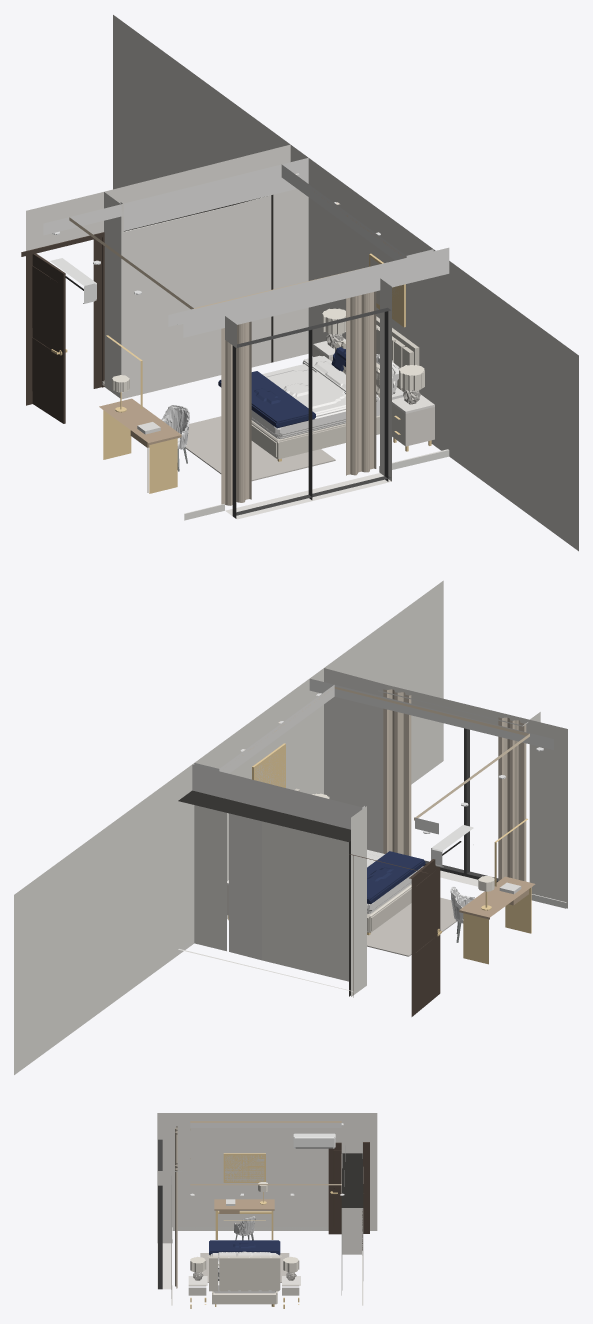
The model's file is ROOM4.glb.
3 renders of one model, top to bottom at view 1: azimuth 30°, elevation 25°; view 2: azimuth 150°, elevation 25°; view 3: azimuth 270°, elevation 25°, orthographic. The views are drawn at different scales.
Parts seen in each view (by area): view 1: WEB_ROOM4; view 2: WEB_ROOM4; view 3: WEB_ROOM4.
Boxes of the visible parts, box(x1,y1,x2,y2) form: WEB_ROOM4: box(21, 15, 578, 551); WEB_ROOM4: box(14, 580, 567, 1074); WEB_ROOM4: box(157, 1113, 377, 1308).
Size of the model in its own units: 4.06 by 3 by 12.12.
